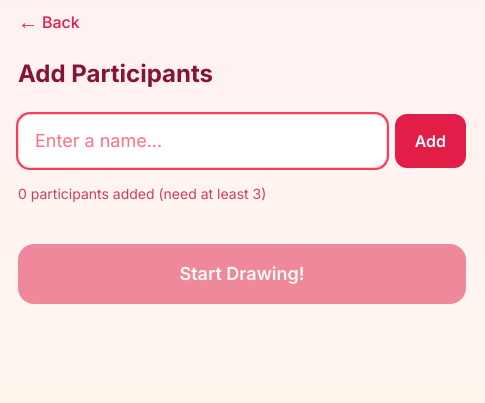
SetupScreen › Players step › removes a participant
In the field with placeholder "Enter a name...": (202, 141) [18,114,387,168], type "Alice"
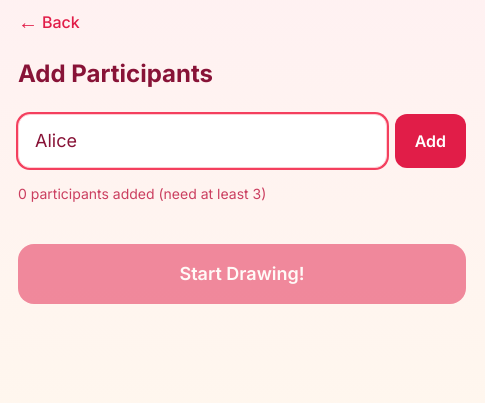
Click the button "Add": click(430, 141) [395,114,466,168]
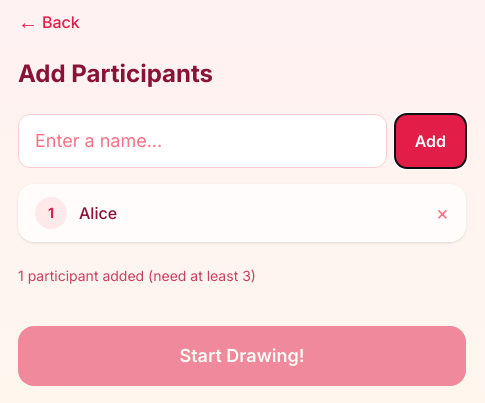
expect the text "Alice" is shown: met, box [79,201,117,225]
Click the button named "Remove Alice": click(442, 213) [436,203,449,223]
Wait 300 ms
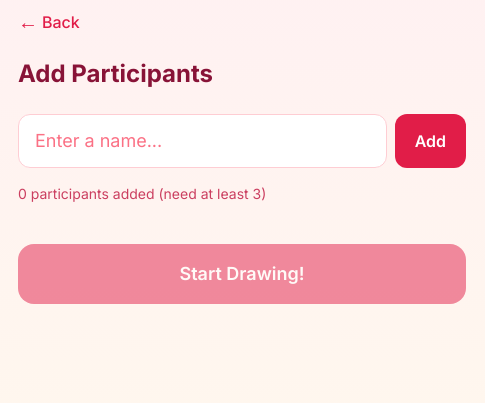
expect the text "Alice" is gone: met
